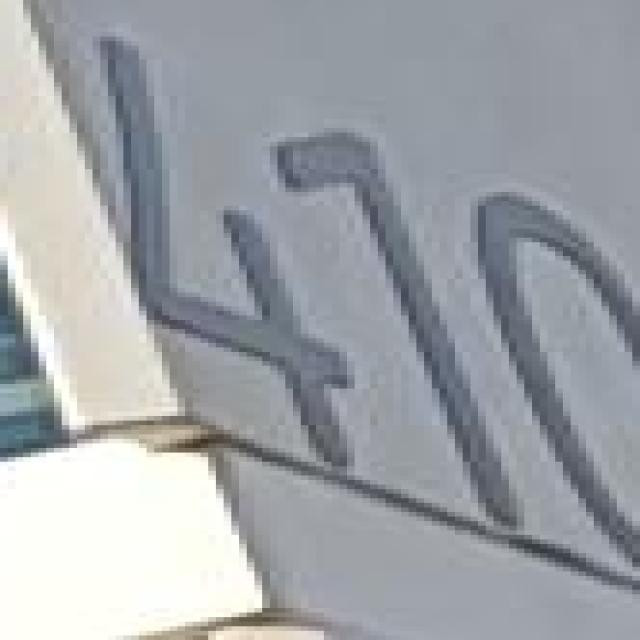character: (80, 30, 378, 479), (265, 123, 543, 538), (462, 183, 640, 576)
